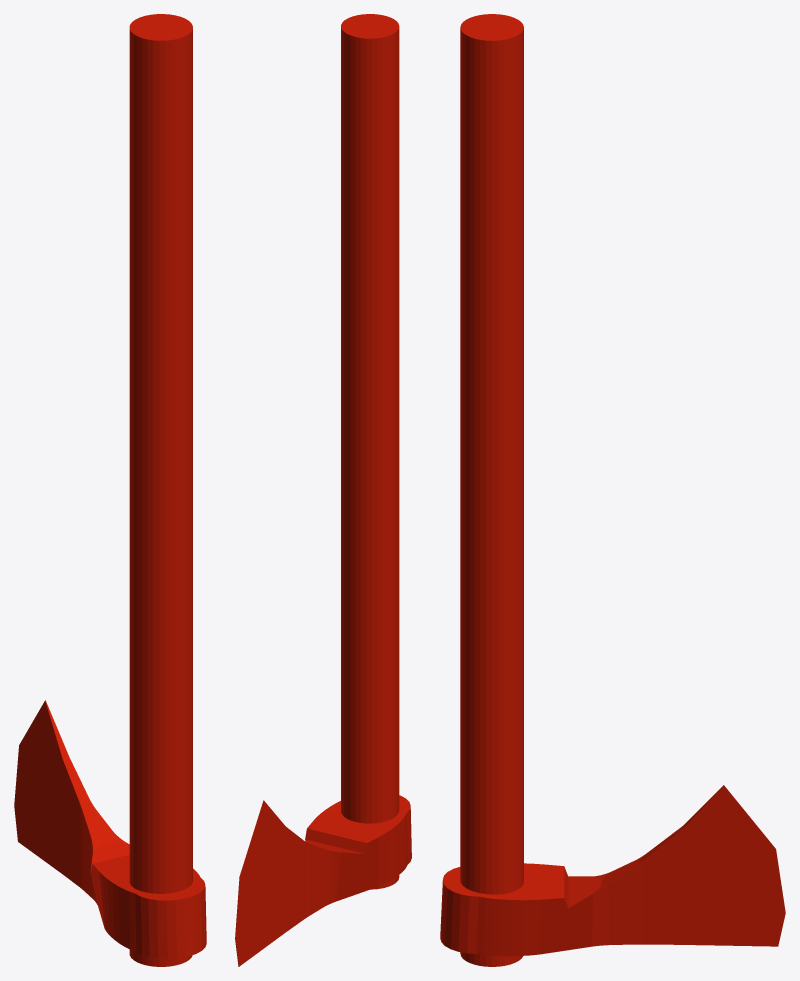
Rendered from axe.gltf.
3 renders of one model, left to right at view 1: azimuth 30°, elevation 25°; view 2: azimuth 150°, elevation 25°; view 3: azimuth 270°, elevation 25°, orthographic. The views are drawn at different scales.
Parts seen in each view (by area): view 1: Cube; view 2: Cube; view 3: Cube.
Part boxes in pixels (x1=…): Cube: x1=14, y1=14, x2=206, y2=966; Cube: x1=235, y1=14, x2=411, y2=966; Cube: x1=440, y1=14, x2=785, y2=966.
Bounding box in the file's own units: 0.3094 × 3.63 × 1.23.
